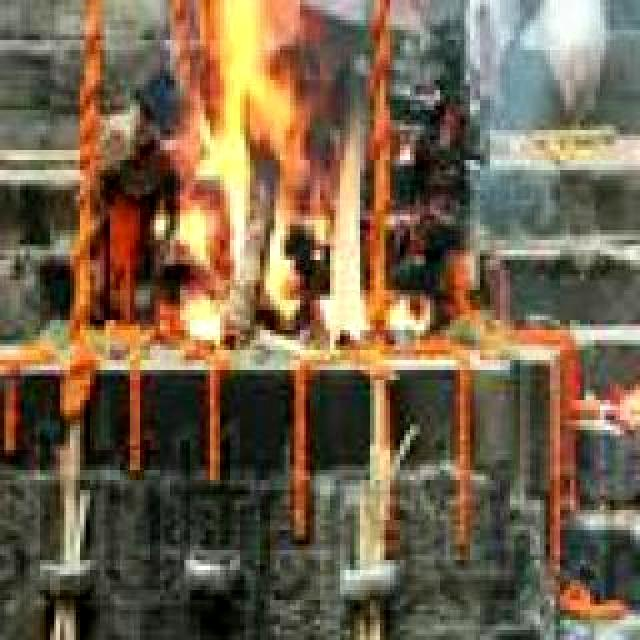fire: (174, 0, 384, 352)
